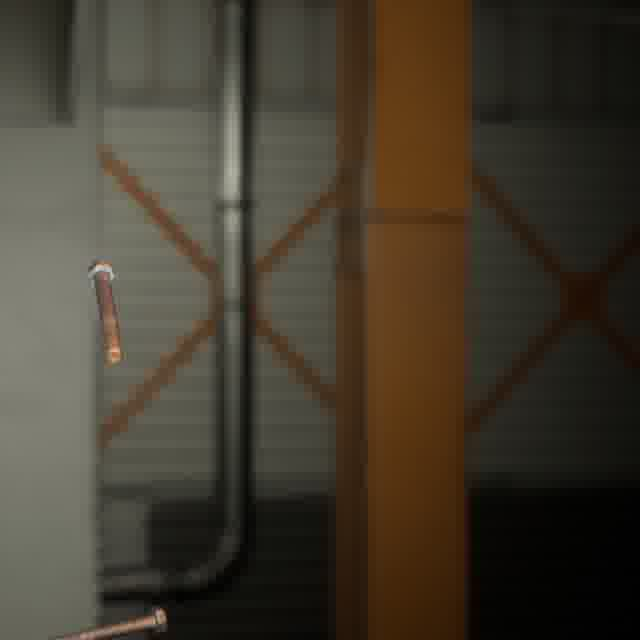bolt: (82, 256, 127, 367), (42, 602, 171, 640)
